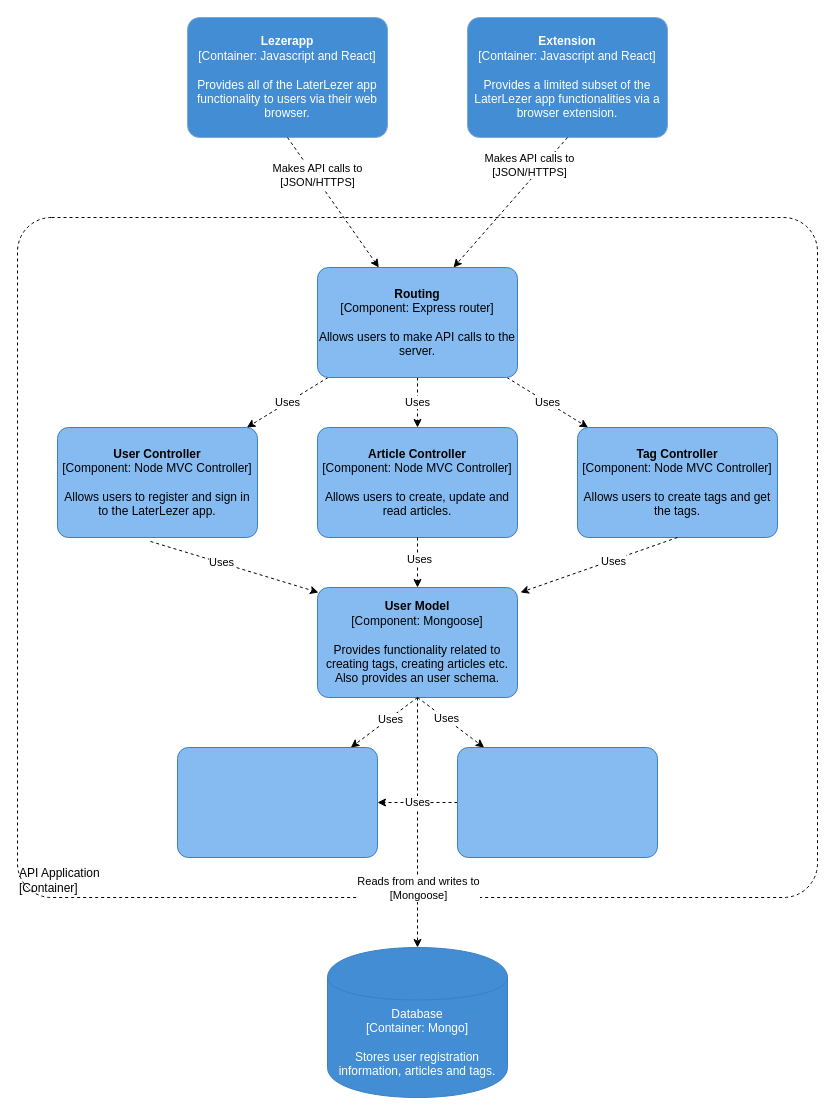
This 835x1115 diagram has some shape labels left out. Each missing label, with the centre of its shape:
Article Model [Component: Mongoose] Provides an article schema.: point (557, 802)
Tag Model [Component: Mongoose] Provides a tag schema.: point (277, 802)
